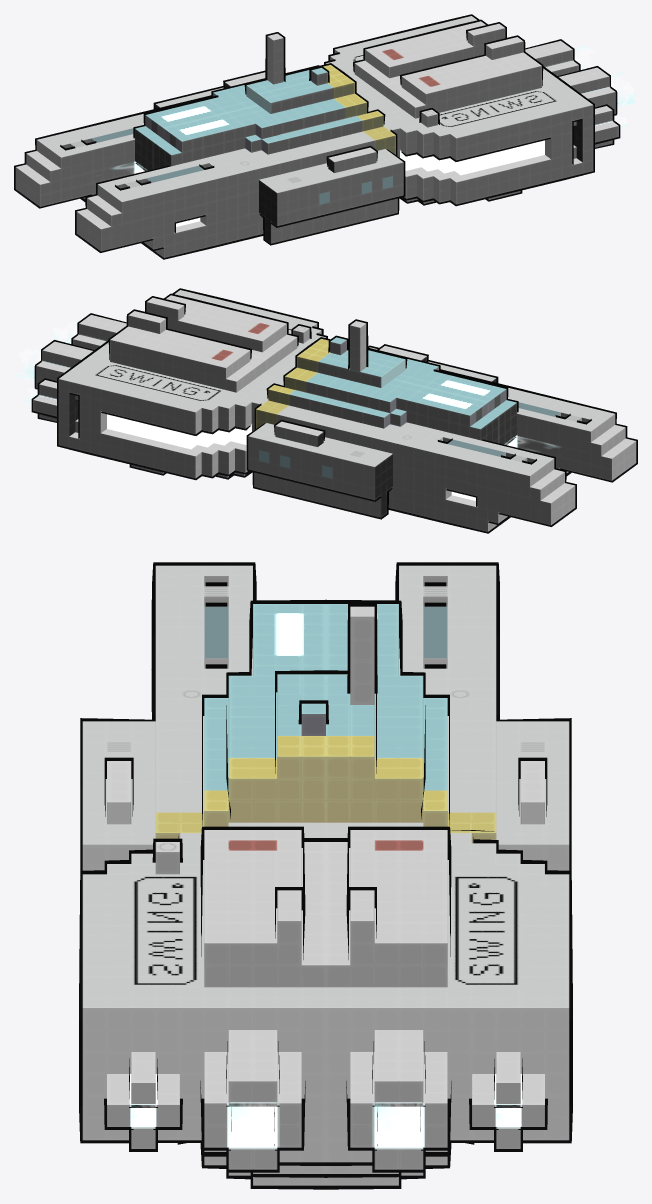
File: spaceship_complete.glb
3 views of the same model, one above another, from view 1: azimuth 30°, elevation 25°; view 2: azimuth 150°, elevation 25°; view 3: azimuth 270°, elevation 25° (orthographic). The views are drawn at different scales.
Visible parts, largest first — view 1: spaceship_body_low, spaceship_outline, spaceship_exhaust_glow; view 2: spaceship_body_low, spaceship_outline, spaceship_exhaust_glow; view 3: spaceship_body_low, spaceship_outline, spaceship_exhaust_glow.
Part boxes in pixels (x1=…): spaceship_body_low: x1=15, y1=16, x2=618, y2=257; spaceship_outline: x1=14, y1=14, x2=620, y2=259; spaceship_exhaust_glow: x1=112, y1=46, x2=636, y2=173; spaceship_body_low: x1=33, y1=290, x2=636, y2=531; spaceship_outline: x1=31, y1=288, x2=637, y2=533; spaceship_exhaust_glow: x1=16, y1=321, x2=558, y2=451; spaceship_body_low: x1=82, y1=565, x2=569, y2=1185; spaceship_outline: x1=79, y1=562, x2=572, y2=1189; spaceship_exhaust_glow: x1=131, y1=1103, x2=520, y2=1129.
Bounding box in the file's own units: 528 × 163 × 203.
3 materials, 3 textured.
